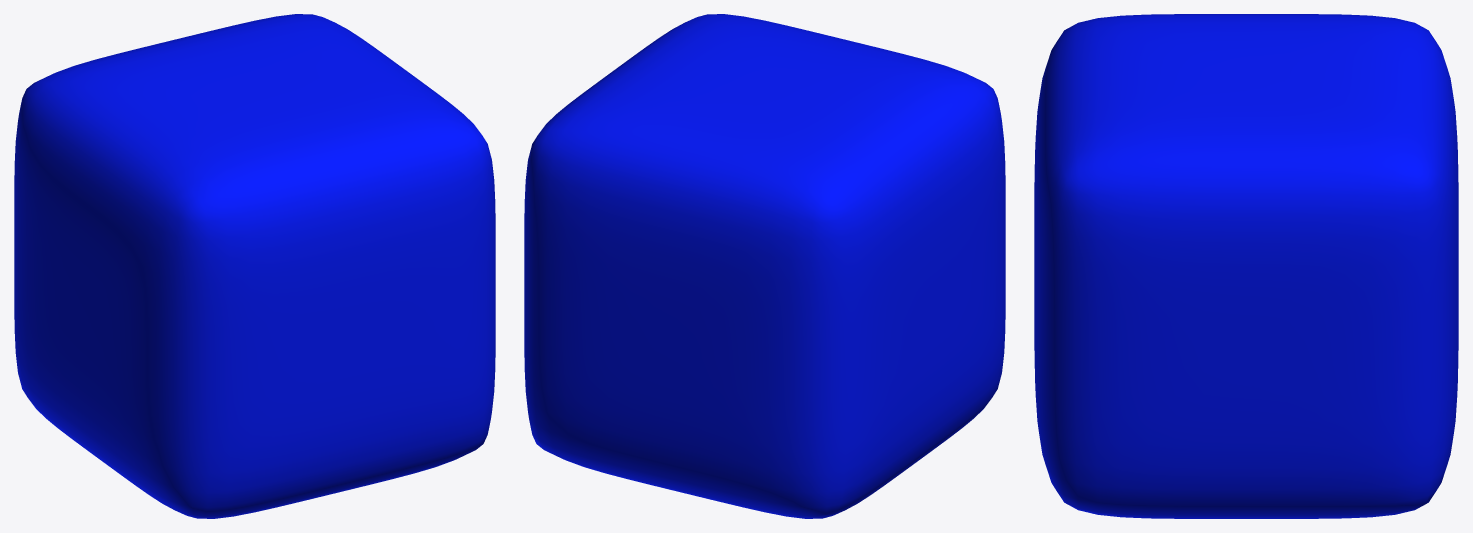
3 renders of one model, left to right at view 1: azimuth 30°, elevation 25°; view 2: azimuth 150°, elevation 25°; view 3: azimuth 270°, elevation 25°, orthographic. The views are drawn at different scales.
Visible parts, largest first — view 1: Объект_Куб; view 2: Объект_Куб; view 3: Объект_Куб.
Part boxes in pixels (<box>): Объект_Куб: <box>14,14,495,518</box>; Объект_Куб: <box>524,14,1005,518</box>; Объект_Куб: <box>1034,14,1458,518</box>.
Size of the model in its own units: 0.9999 by 0.9999 by 0.9999.
